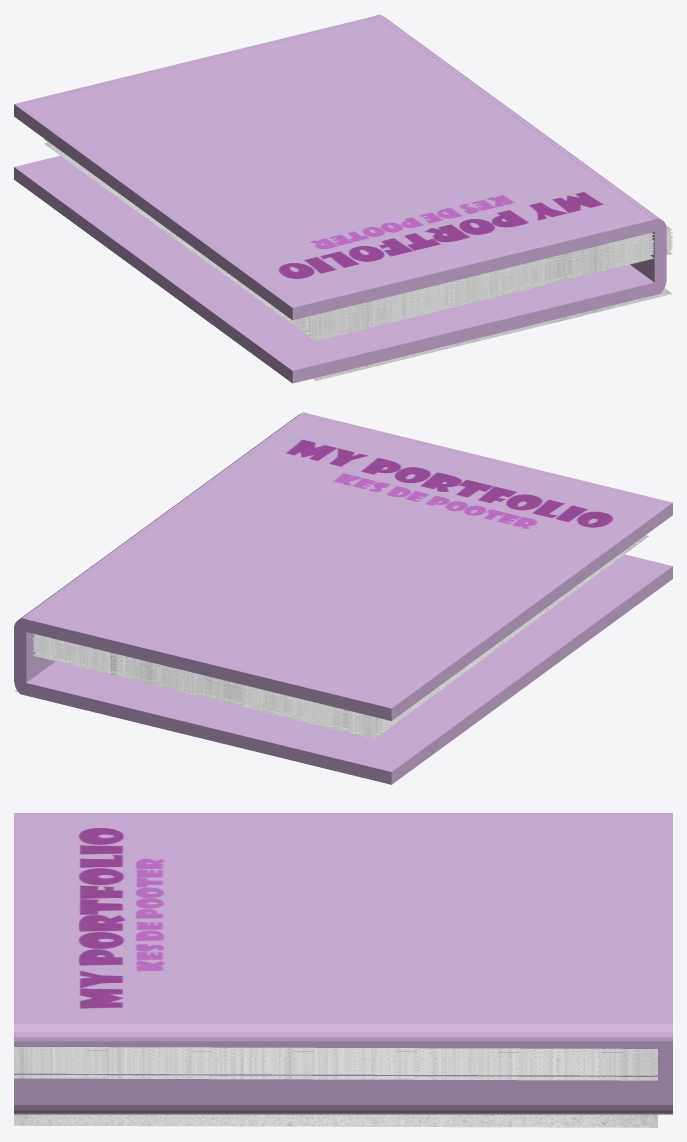
File: animated.book.final.glb
3 renders of one model, top to bottom at view 1: azimuth 30°, elevation 25°; view 2: azimuth 150°, elevation 25°; view 3: azimuth 270°, elevation 25°, orthographic. The views are drawn at different scales.
Parts seen in each view (by area): view 1: left, right, Plane.033, Cube, Plane, Plane.038, Plane.044, Plane.041, Plane.034, Plane.040, Plane.029, Plane.037 (+4 smaller); view 2: left, right, Cube, Plane.033, Plane.044, Plane.041, Plane.040, Plane.037, Plane.029, Plane.043, Plane.038, Plane.042 (+2 smaller); view 3: left, Cube, Plane, Plane.038, Plane.033, Plane.034, Plane.044, Plane.029, Plane.040, Plane.043, Plane.037, Plane.041 (+3 smaller).
Part boxes in pixels (bbox=[...]): left: bbox=[14, 15, 654, 320]; right: bbox=[14, 156, 654, 383]; Plane.033: bbox=[44, 142, 672, 340]; Cube: bbox=[376, 14, 666, 294]; Plane: bbox=[313, 288, 672, 380]; Plane.038: bbox=[310, 231, 672, 320]; Plane.044: bbox=[307, 234, 672, 323]; Plane.041: bbox=[44, 139, 672, 336]; Plane.034: bbox=[313, 225, 672, 317]; Plane.040: bbox=[295, 246, 672, 334]; Plane.029: bbox=[303, 239, 672, 327]; Plane.037: bbox=[298, 243, 672, 331]; left: bbox=[26, 413, 672, 720]; right: bbox=[26, 554, 672, 784]; Cube: bbox=[14, 412, 307, 695]; Plane.033: bbox=[33, 535, 648, 738]; Plane.044: bbox=[33, 636, 378, 721]; Plane.041: bbox=[33, 599, 557, 734]; Plane.040: bbox=[33, 648, 389, 732]; Plane.037: bbox=[33, 645, 387, 729]; Plane.029: bbox=[33, 640, 382, 725]; Plane.043: bbox=[33, 642, 384, 727]; Plane.038: bbox=[33, 634, 375, 718]; Plane.042: bbox=[33, 646, 388, 730]; left: bbox=[14, 813, 672, 1021]; Cube: bbox=[14, 1021, 672, 1114]; Plane: bbox=[14, 1114, 657, 1127]; Plane.038: bbox=[14, 1050, 657, 1056]; Plane.033: bbox=[14, 1075, 657, 1080]; Plane.034: bbox=[14, 1047, 657, 1052]; Plane.044: bbox=[14, 1054, 657, 1059]; Plane.029: bbox=[14, 1060, 657, 1064]; Plane.040: bbox=[14, 1068, 657, 1073]; Plane.043: bbox=[14, 1062, 657, 1067]; Plane.037: bbox=[14, 1065, 657, 1069]; Plane.041: bbox=[14, 1071, 657, 1075].
Bounding box in the file's own units: 1.58 × 0.3199 × 2.
Materials: 3 (2 with a texture image).
